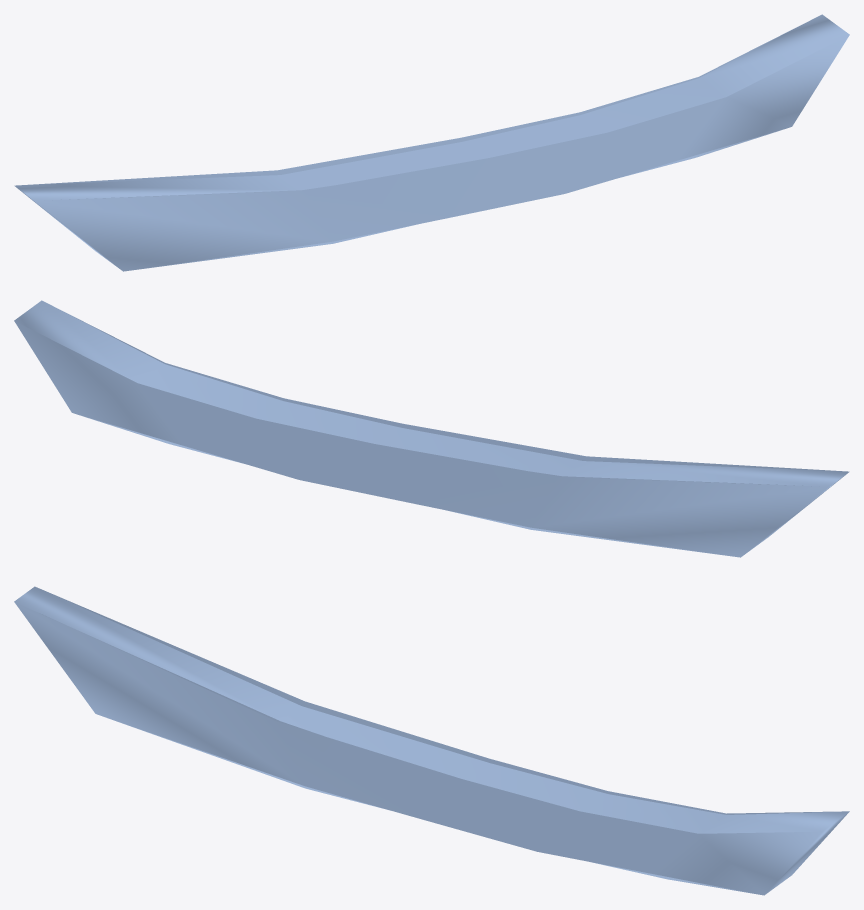
Rendered from curvedbeam1.glb.
3 renders of one model, top to bottom at view 1: azimuth 30°, elevation 25°; view 2: azimuth 150°, elevation 25°; view 3: azimuth 330°, elevation 25°, orthographic.
Visible parts, largest first — view 1: FOUNDATION; view 2: FOUNDATION; view 3: FOUNDATION.
Boxes of the visible parts, <box> form: FOUNDATION: <box>14,14,849,271</box>; FOUNDATION: <box>14,300,849,557</box>; FOUNDATION: <box>14,586,849,895</box>.
Bounding box in the file's own units: 8.44 × 1.18 × 0.5.
